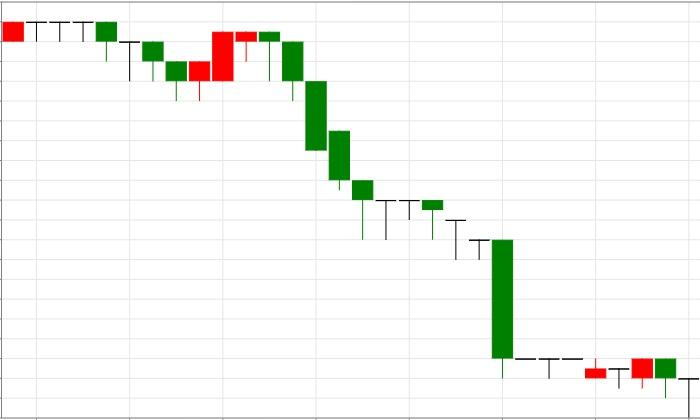three_black_crows_fall: (166, 31, 327, 151)
